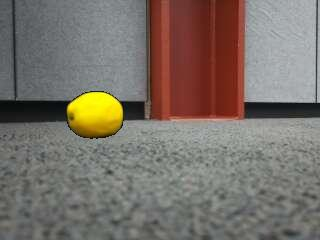lemon: (69, 93, 124, 139)
